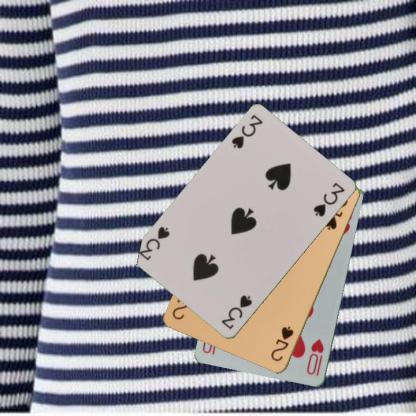10h: (304, 336, 325, 377)
2s: (268, 323, 295, 363)
3s: (218, 292, 254, 331), (229, 112, 264, 150)
